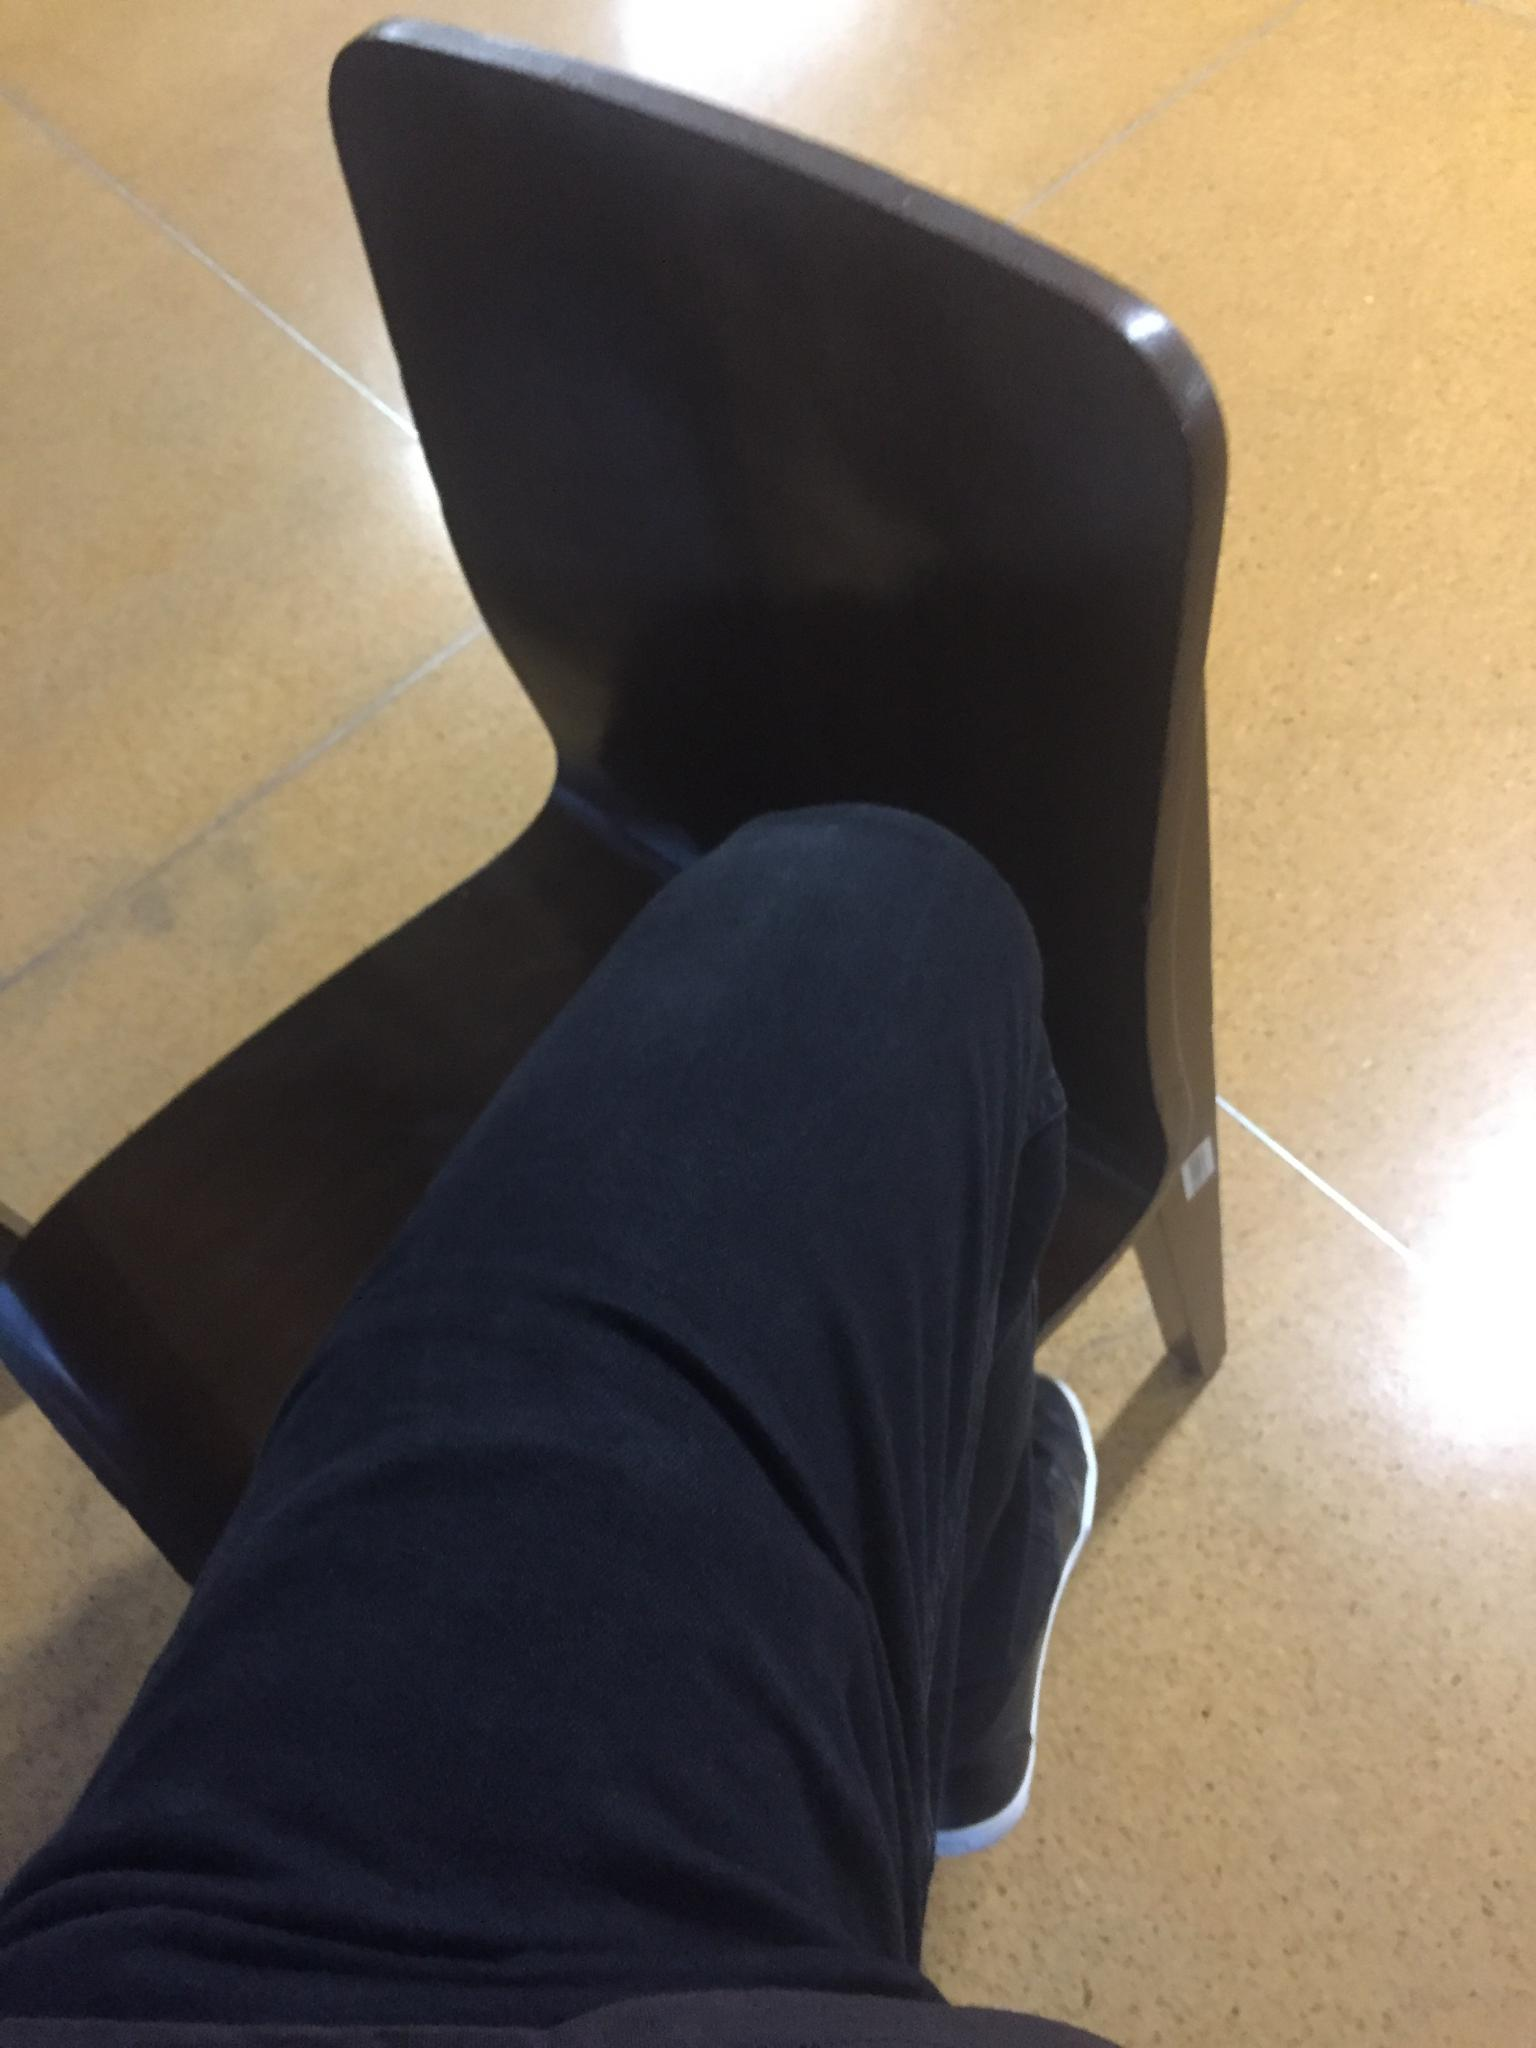chair: (0, 0, 1262, 1734)
